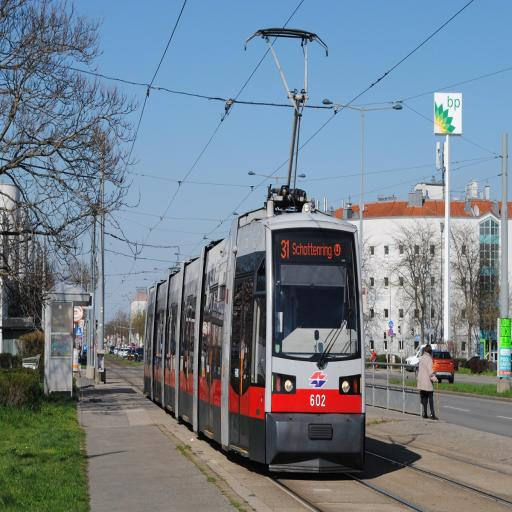ULF: (143, 200, 368, 476)
